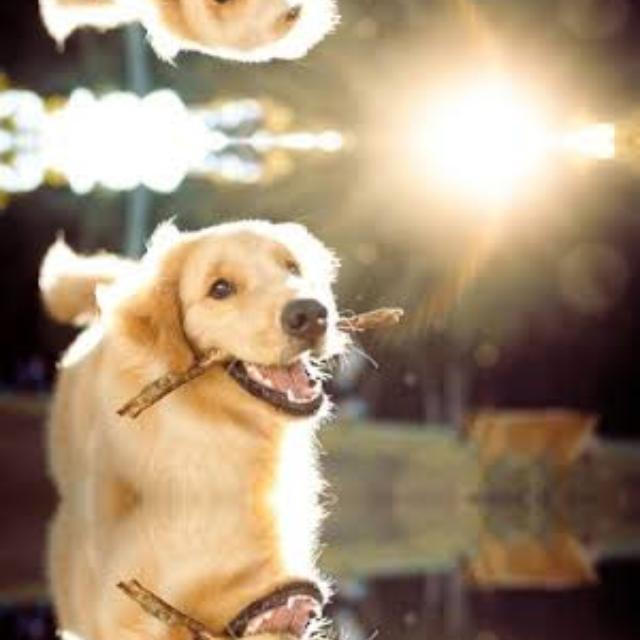dog: (151, 212, 351, 426), (151, 570, 351, 640), (151, 0, 351, 68)
